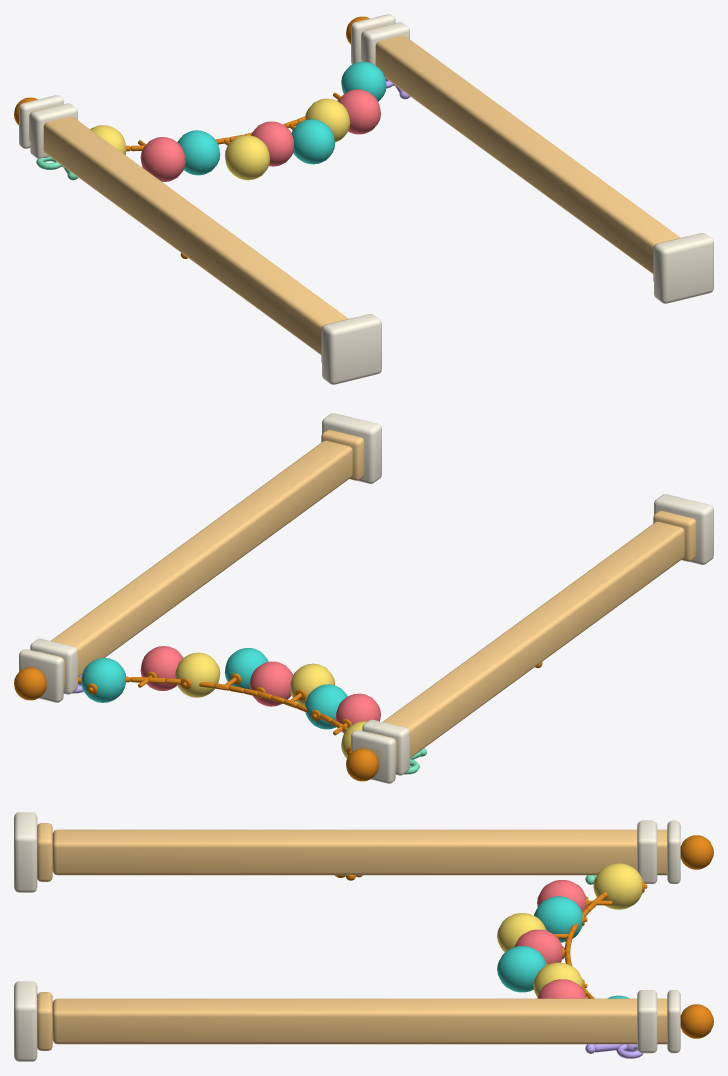
Rendered from PatioStringLights_Premium.fbx.
The picture shows the model from 3 angles, top to bottom: view 1: azimuth 30°, elevation 25°; view 2: azimuth 150°, elevation 25°; view 3: azimuth 270°, elevation 25°; orthographic projection. The views are drawn at different scales.
Parts seen in each view (by area): view 1: PatioStringLights; view 2: PatioStringLights; view 3: PatioStringLights.
Part boxes in pixels (x1=…): PatioStringLights: x1=14, y1=14, x2=713, y2=384; PatioStringLights: x1=14, y1=413, x2=713, y2=783; PatioStringLights: x1=14, y1=812, x2=713, y2=1061.
Size of the model in its own units: 1.39 by 0.217 by 2.1.
